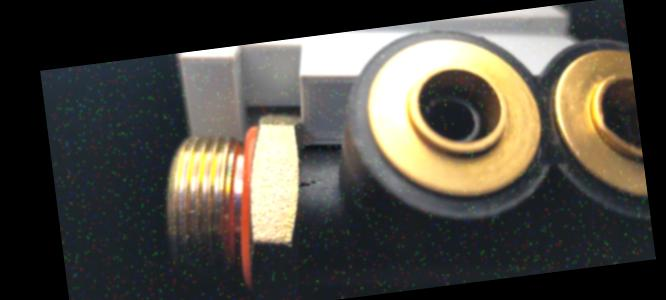craze: (297, 176, 324, 189)
joint line: (324, 182, 340, 194)
